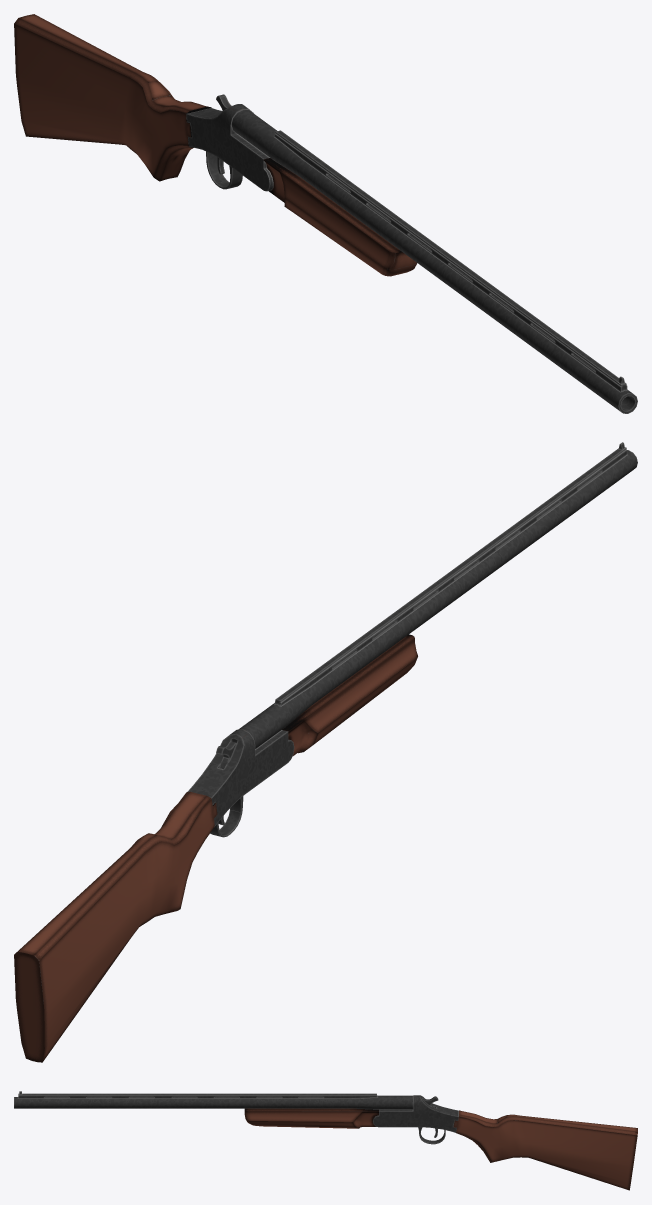
The model's file is Shotgun.fbx.
The picture shows the model from 3 angles, top to bottom: view 1: azimuth 30°, elevation 25°; view 2: azimuth 150°, elevation 25°; view 3: azimuth 270°, elevation 25°; orthographic projection. The views are drawn at different scales.
Parts seen in each view (by area): view 1: SM_Shotgun; view 2: SM_Shotgun; view 3: SM_Shotgun.
Part boxes in pixels (left/top/right/bottom): SM_Shotgun: left=14, top=14, right=637, bottom=413; SM_Shotgun: left=14, top=442, right=637, bottom=1062; SM_Shotgun: left=14, top=1091, right=637, bottom=1190.
Bounding box in the file's own units: 426 × 2307 × 13383.
